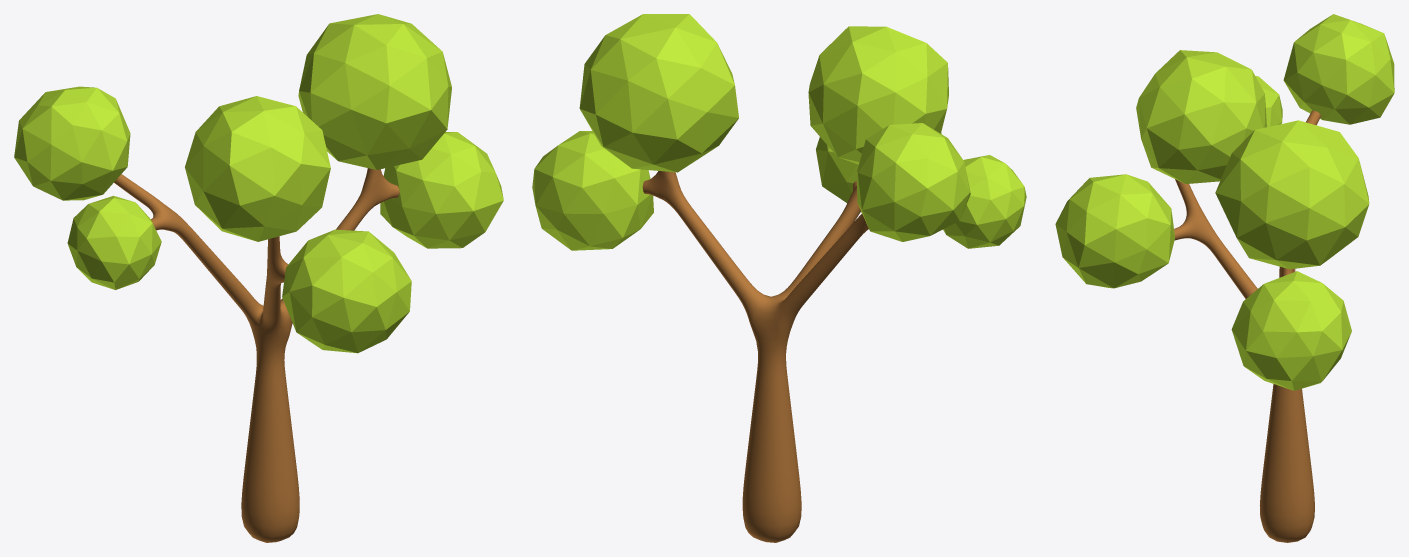
Rendered from rgr-tree2.fbx.
The picture shows the model from 3 angles, left to right: view 1: azimuth 30°, elevation 25°; view 2: azimuth 150°, elevation 25°; view 3: azimuth 270°, elevation 25°; orthographic projection. The views are drawn at different scales.
Visible parts, largest first — view 1: Plane; view 2: Plane; view 3: Plane.
Boxes of the visible parts, x1,y1,x2,y2 form: Plane: [14, 14, 503, 542]; Plane: [532, 14, 1026, 542]; Plane: [1055, 14, 1394, 542].
Bounding box in the file's own units: 1454 × 1521 × 1015.
